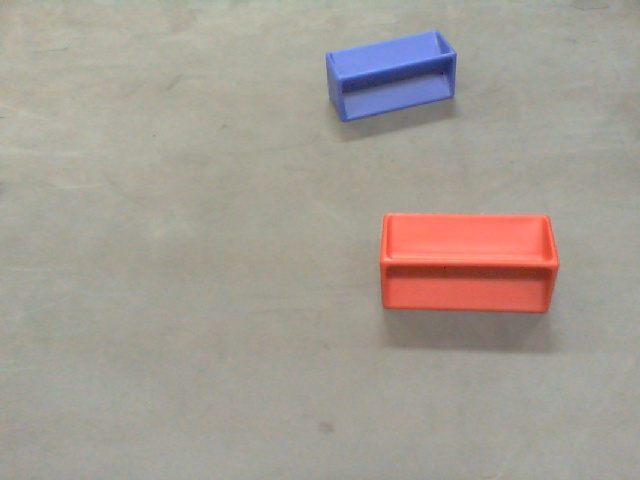BlueSample: (323, 28, 460, 119)
RedSample: (375, 208, 564, 315)
